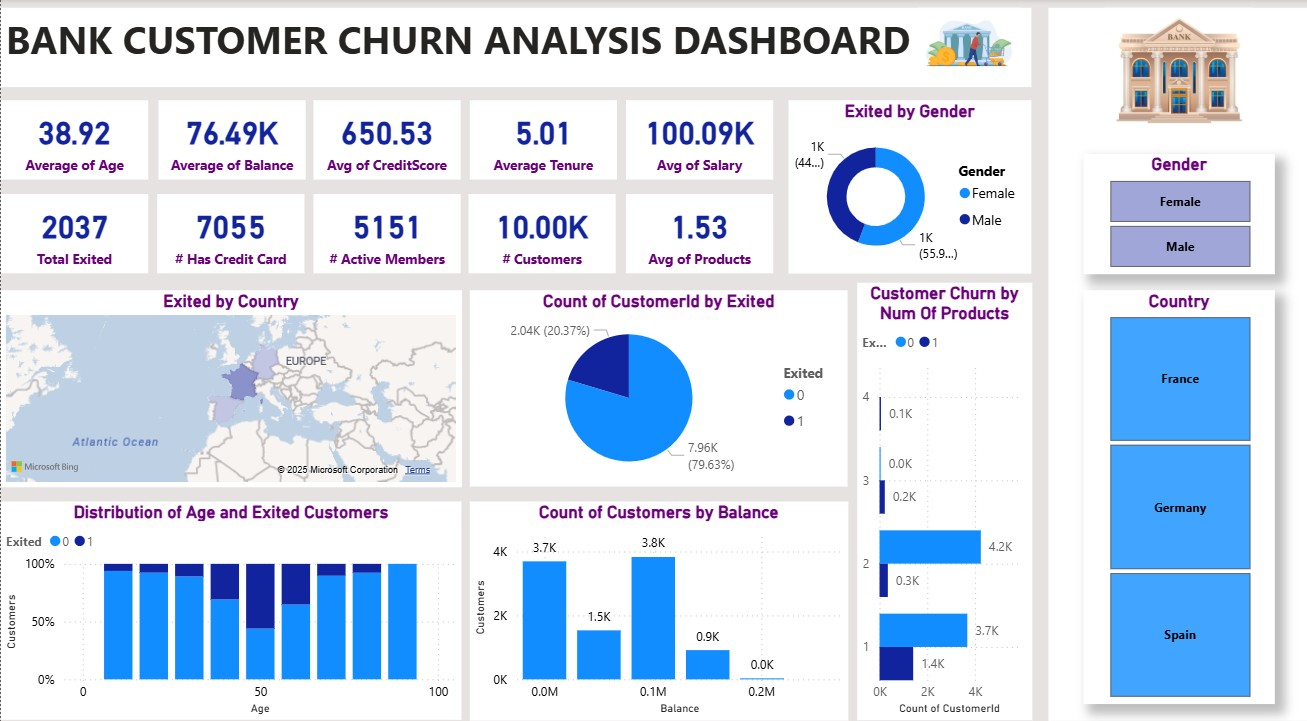

Layout of this report page (visuals, bound fields, positions):
{"tool":"powerbi","page":{"name":"Page 1","canvas":[1280,720],"ordinal":0},"visuals":[{"type":"textbox","box":[0,8.1,1008.1,77.9],"z":0},{"type":"image","box":[896.5,8.1,102.3,66.3],"z":1000},{"type":"shape","box":[1024.4,8.1,255.8,697.7],"z":2000},{"type":"card","fields":{"Values":["Avg(Churn_Modelling.Age)"]},"box":[0,98.8,144.2,77.9],"z":3000},{"type":"card","fields":{"Values":["Avg(Churn_Modelling.Balance)"]},"box":[153.5,98.8,144.2,77.9],"z":4000},{"type":"card","fields":{"Values":["Avg(Churn_Modelling.CreditScore)"]},"box":[305.8,98.8,144.2,77.9],"z":5000},{"type":"card","fields":{"Values":["Avg(Churn_Modelling.Tenure)"]},"box":[458.1,98.8,144.2,77.9],"z":6000},{"type":"card","fields":{"Values":["Avg(Churn_Modelling.EstimatedSalary)"]},"box":[611.6,98.8,144.2,77.9],"z":7000},{"type":"card","fields":{"Values":["Sum(Churn_Modelling.Exited)"]},"box":[-0.5,190.7,144.2,77.9],"z":8000},{"type":"card","fields":{"Values":["Sum(Churn_Modelling.HasCrCard)"]},"box":[153,190.7,144.2,77.9],"z":9000},{"type":"card","fields":{"Values":["Sum(Churn_Modelling.IsActiveMember)"]},"box":[305.3,190.7,144.2,77.9],"z":10000},{"type":"card","fields":{"Values":["CountNonNull(Churn_Modelling.CustomerId)"]},"box":[457.7,190.7,144.2,77.9],"z":11000},{"type":"card","fields":{"Values":["Avg(Churn_Modelling.NumOfProducts)"]},"box":[611.2,190.7,144.2,77.9],"z":12000},{"type":"slicer","title":"Gender","fields":{"Values":["Churn_Modelling.Gender"]},"box":[1059.3,151.2,187.2,117.4],"z":13000},{"type":"slicer","title":"Country","fields":{"Values":["Churn_Modelling.Geography"]},"box":[1059.3,284.9,187.2,404.7],"z":14000},{"type":"donutChart","title":"Exited by Gender","fields":{"Category":["Churn_Modelling.Gender"],"Y":["Sum(Churn_Modelling.Exited)"]},"box":[770.9,98.8,237.2,169.8],"z":15000},{"type":"filledMap","title":"Exited by Country","fields":{"Category":["Churn_Modelling.Geography"]},"box":[0,284.9,450,191.9],"z":16000},{"type":"image","box":[1024.4,8.1,255.8,122.1],"z":17000},{"type":"hundredPercentStackedColumnChart","title":" Distribution of Age and Exited Customers","fields":{"Category":["Churn_Modelling.Age (bins)"],"Y":["Count(Churn_Modelling.CustomerId)"],"Series":["Churn_Modelling.Exited"]},"box":[0,491.9,450,214],"z":18000},{"type":"clusteredBarChart","title":" Customer Churn by Num Of Products","fields":{"Category":["Churn_Modelling.NumOfProducts"],"Series":["Churn_Modelling.Exited"],"Y":["CountNonNull(Churn_Modelling.CustomerId)"]},"box":[837.2,277.9,170.9,427.9],"z":19000},{"type":"pieChart","fields":{"Category":["Churn_Modelling.Exited"],"Y":["CountNonNull(Churn_Modelling.CustomerId)"]},"box":[458.1,284.9,369.8,191.9],"z":20000},{"type":"columnChart","title":"Count of Customers by Balance","fields":{"Category":["Churn_Modelling.Balance (bins)"],"Y":["CountNonNull(Churn_Modelling.CustomerId)"]},"box":[458,492,370,214],"z":21000}]}

Visuals, with their boxes in screenshot pixels (x1, y1, x2, y2), scaled from the page's 1280x720 canvas onto the 1307x721 screenshot:
textbox: x1=0, y1=8, x2=1029, y2=86
image: x1=915, y1=8, x2=1020, y2=75
shape: x1=1046, y1=8, x2=1306, y2=707
card - Avg(Churn_Modelling.Age): x1=0, y1=99, x2=147, y2=177
card - Avg(Churn_Modelling.Balance): x1=157, y1=99, x2=304, y2=177
card - Avg(Churn_Modelling.CreditScore): x1=312, y1=99, x2=459, y2=177
card - Avg(Churn_Modelling.Tenure): x1=468, y1=99, x2=615, y2=177
card - Avg(Churn_Modelling.EstimatedSalary): x1=625, y1=99, x2=772, y2=177
card - Sum(Churn_Modelling.Exited): x1=0, y1=191, x2=147, y2=269
card - Sum(Churn_Modelling.HasCrCard): x1=156, y1=191, x2=303, y2=269
card - Sum(Churn_Modelling.IsActiveMember): x1=312, y1=191, x2=459, y2=269
card - CountNonNull(Churn_Modelling.CustomerId): x1=467, y1=191, x2=615, y2=269
card - Avg(Churn_Modelling.NumOfProducts): x1=624, y1=191, x2=771, y2=269
"Gender" slicer: x1=1082, y1=151, x2=1273, y2=269
"Country" slicer: x1=1082, y1=285, x2=1273, y2=691
"Exited by Gender" donutChart: x1=787, y1=99, x2=1029, y2=269
"Exited by Country" filledMap: x1=0, y1=285, x2=459, y2=477
image: x1=1046, y1=8, x2=1306, y2=130
" Distribution of Age and Exited Customers" hundredPercentStackedColumnChart: x1=0, y1=493, x2=459, y2=707
" Customer Churn by Num Of Products" clusteredBarChart: x1=855, y1=278, x2=1029, y2=707
pieChart - Churn_Modelling.Exited x CountNonNull(Churn_Modelling.CustomerId): x1=468, y1=285, x2=845, y2=477
"Count of Customers by Balance" columnChart: x1=468, y1=493, x2=845, y2=707
